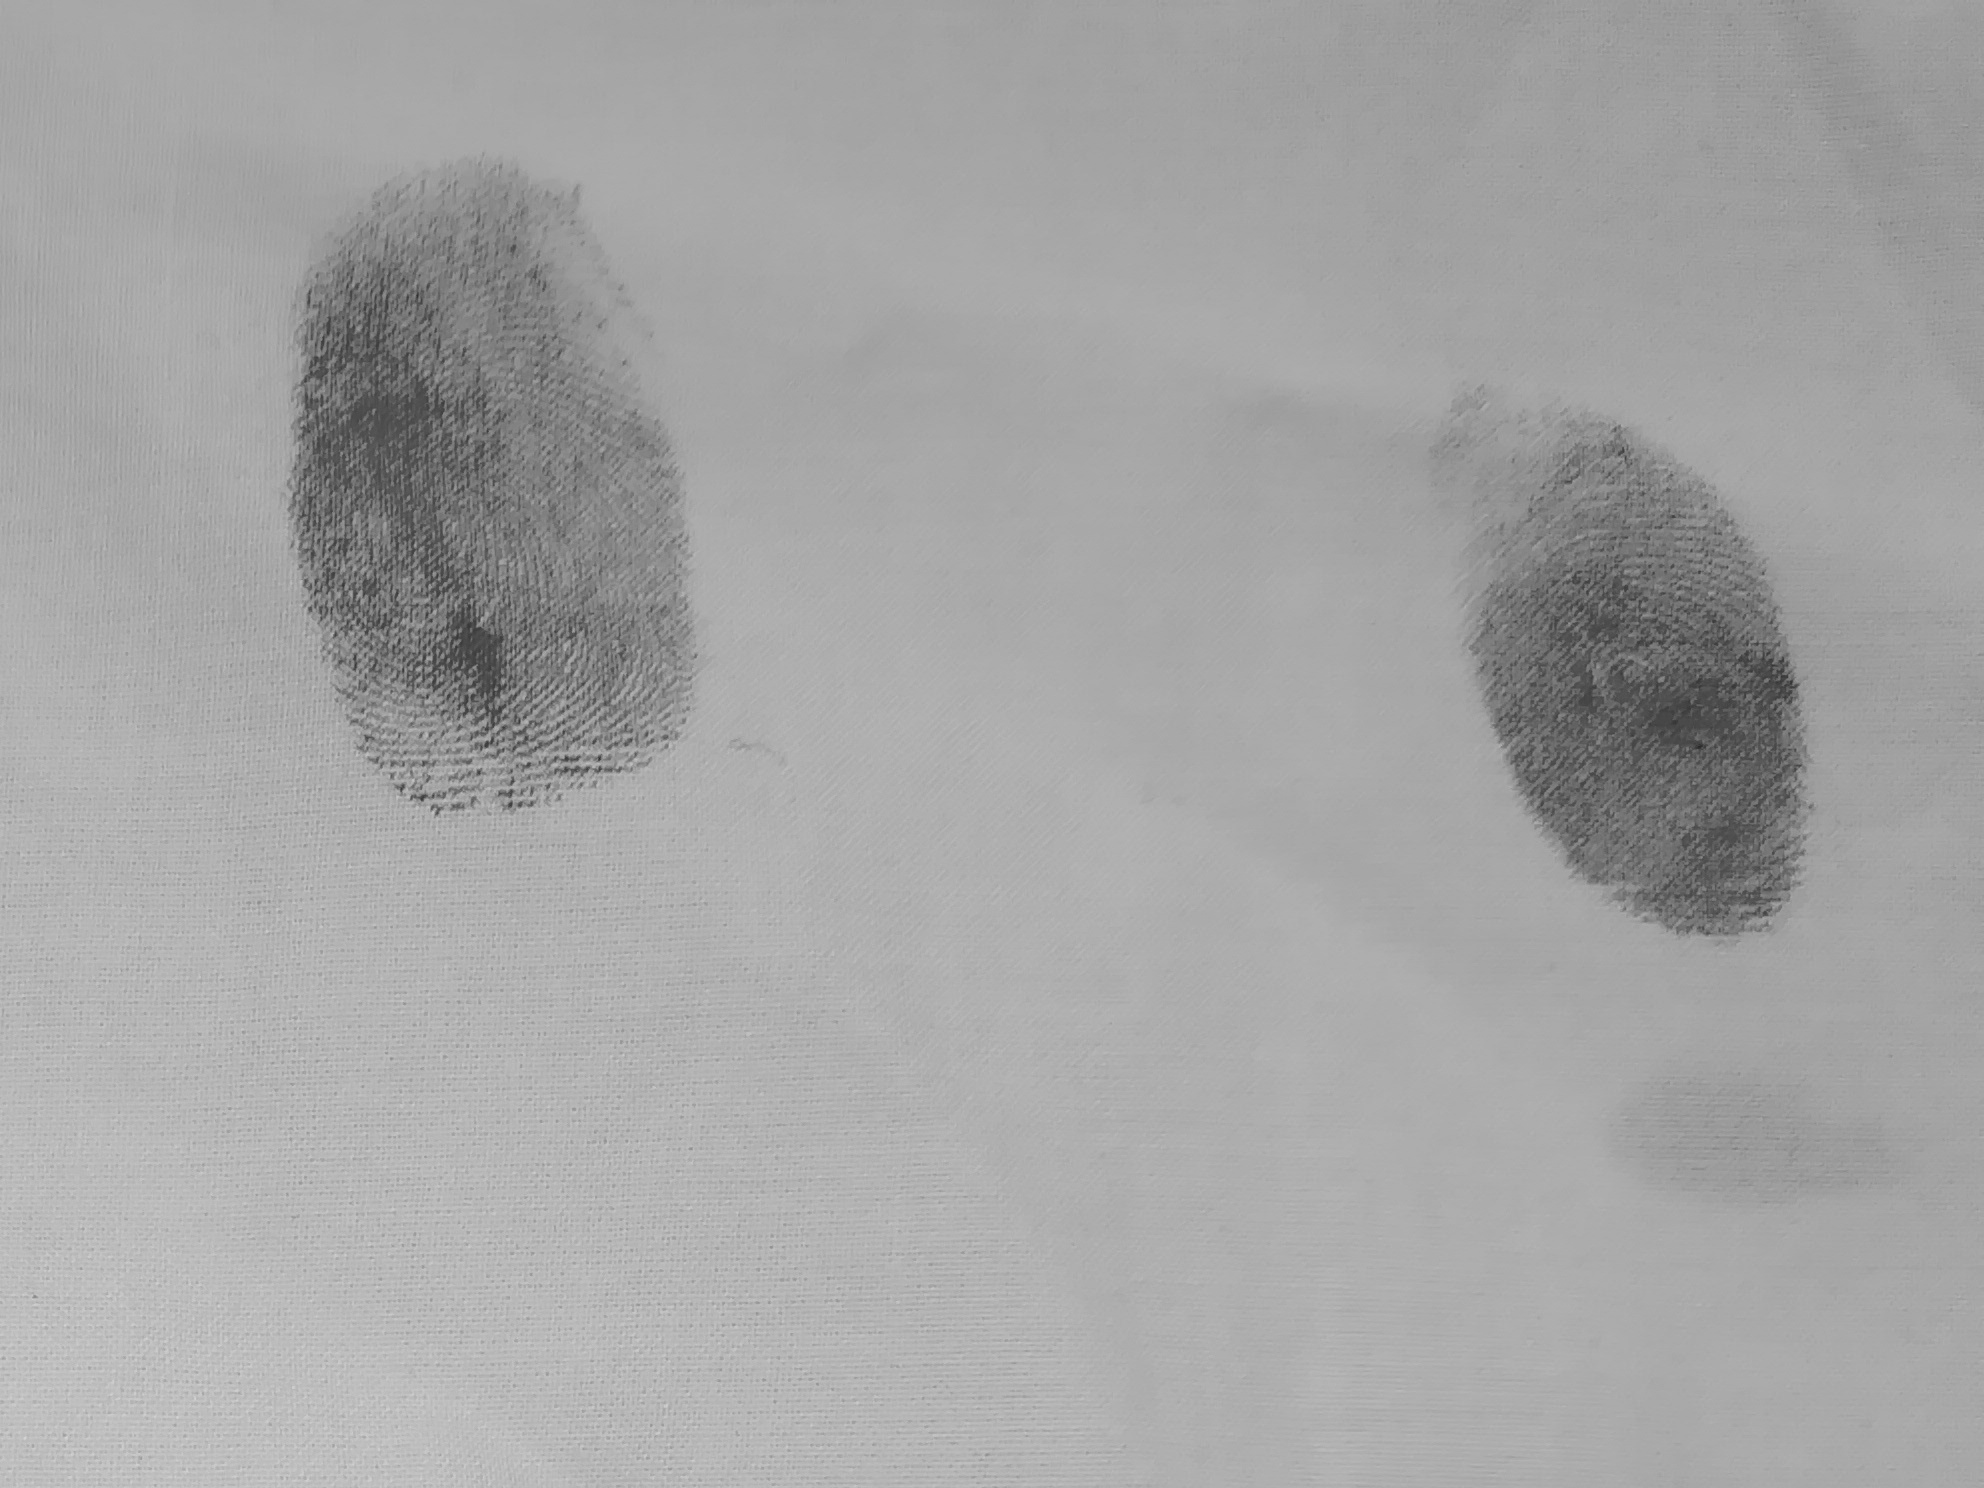Stain: (166, 73, 820, 883), (1309, 245, 1909, 1011), (1547, 1016, 1984, 1272)
